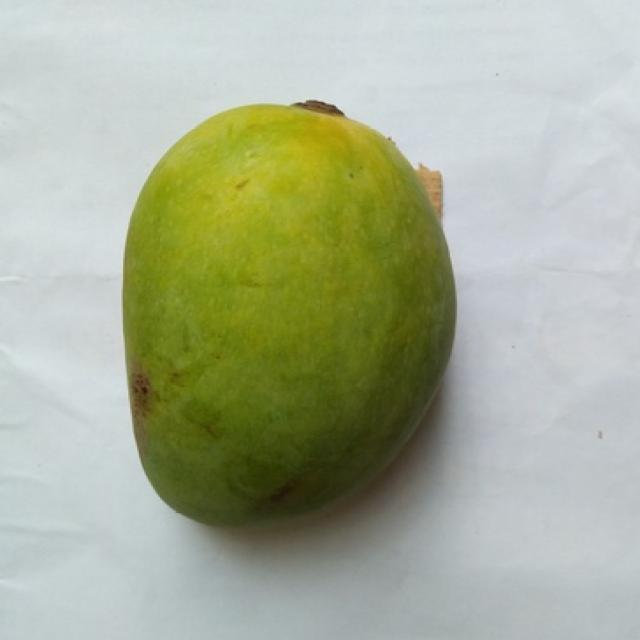Mango: (123, 105, 450, 524)
